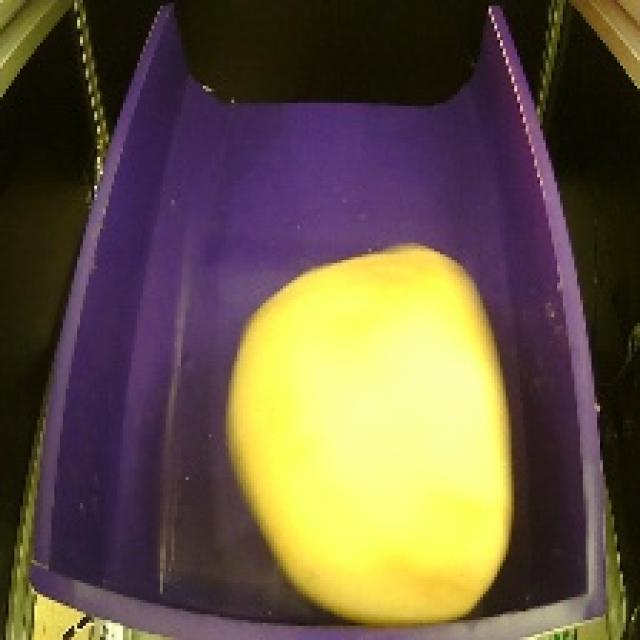full_potato: (214, 224, 514, 634)
